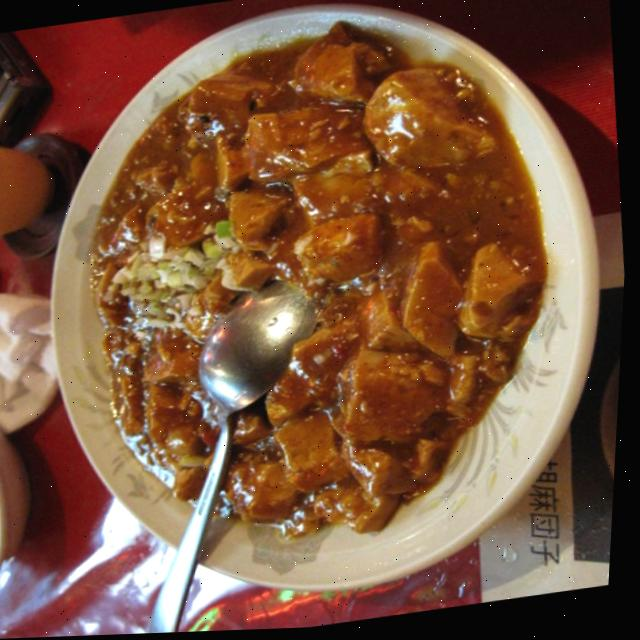豆腐料理: (60, 12, 602, 573)
